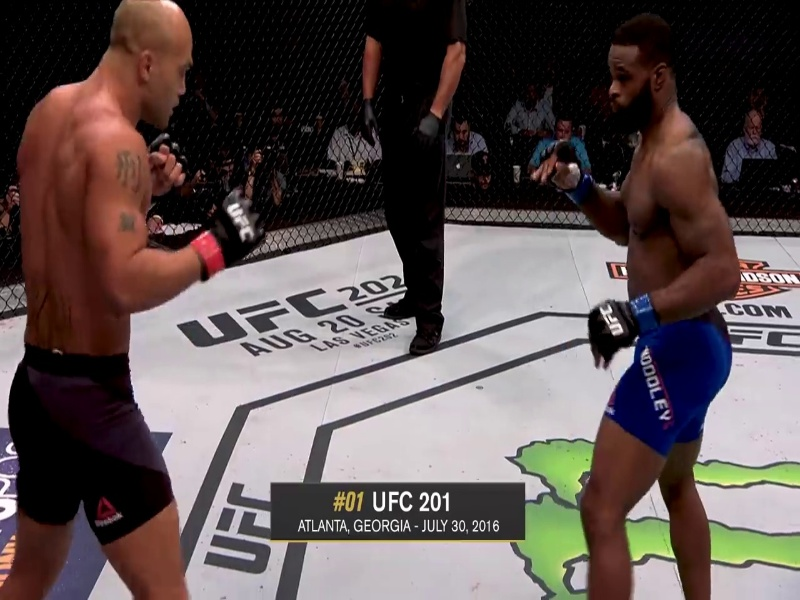fighter: (1, 3, 272, 600), (526, 17, 766, 600)
